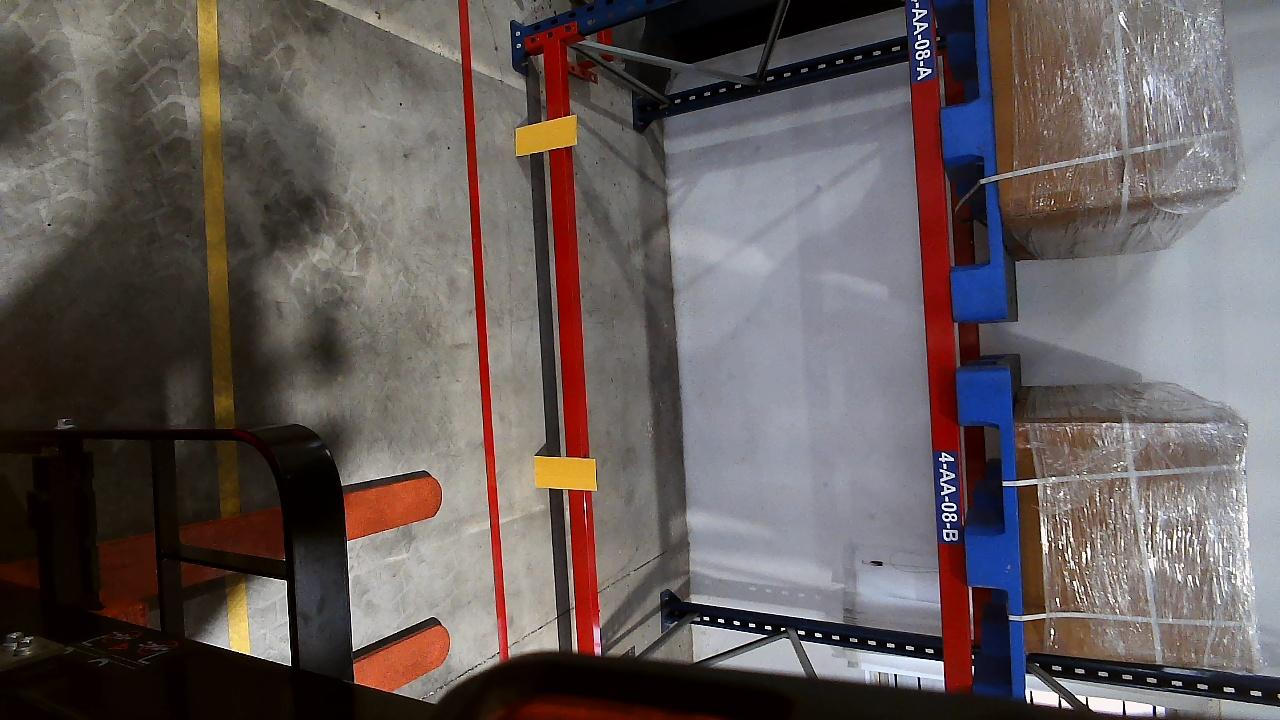h_rack: (900, 1, 968, 684), (544, 57, 592, 662)
orange_strip: (513, 115, 577, 156), (532, 455, 597, 489)
red_line: (465, 82, 507, 666)
small_pallet: (955, 369, 1031, 690), (952, 0, 1011, 309)
yellow_line: (196, 2, 236, 429)
